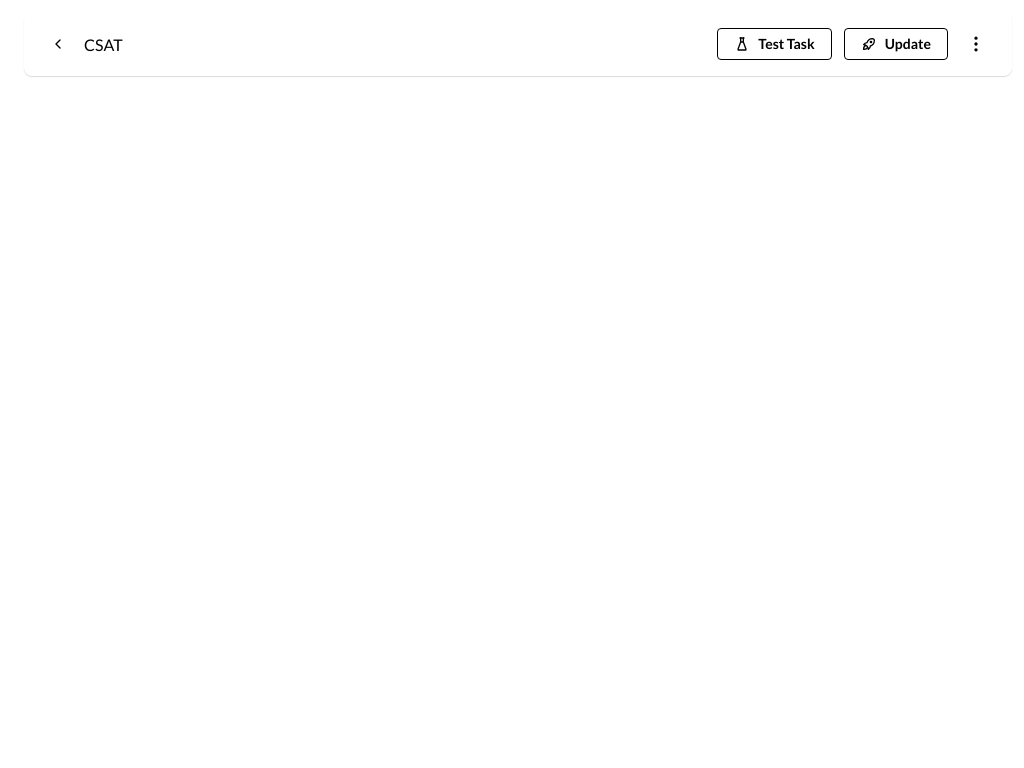
Scenario: Task edit page › renames the task from the overflow menu
Click the button named "More task actions" at coordinates (976, 44), box [960, 28, 992, 60]
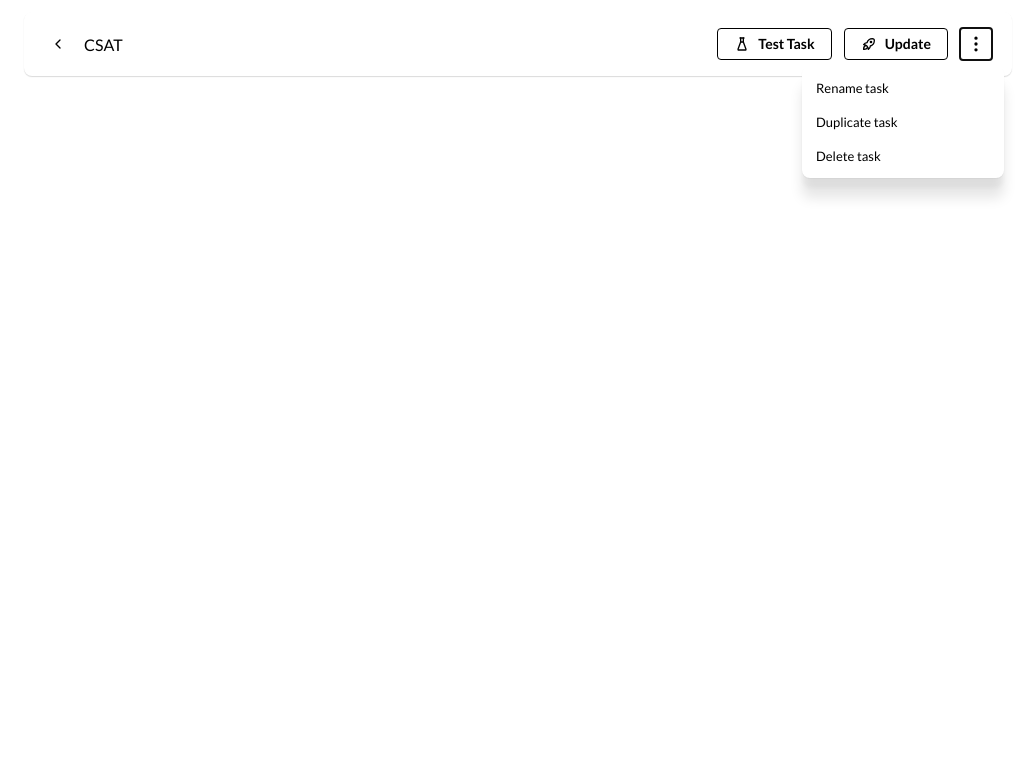
Click the menu item "Rename task" at coordinates (903, 88), box [808, 72, 998, 104]
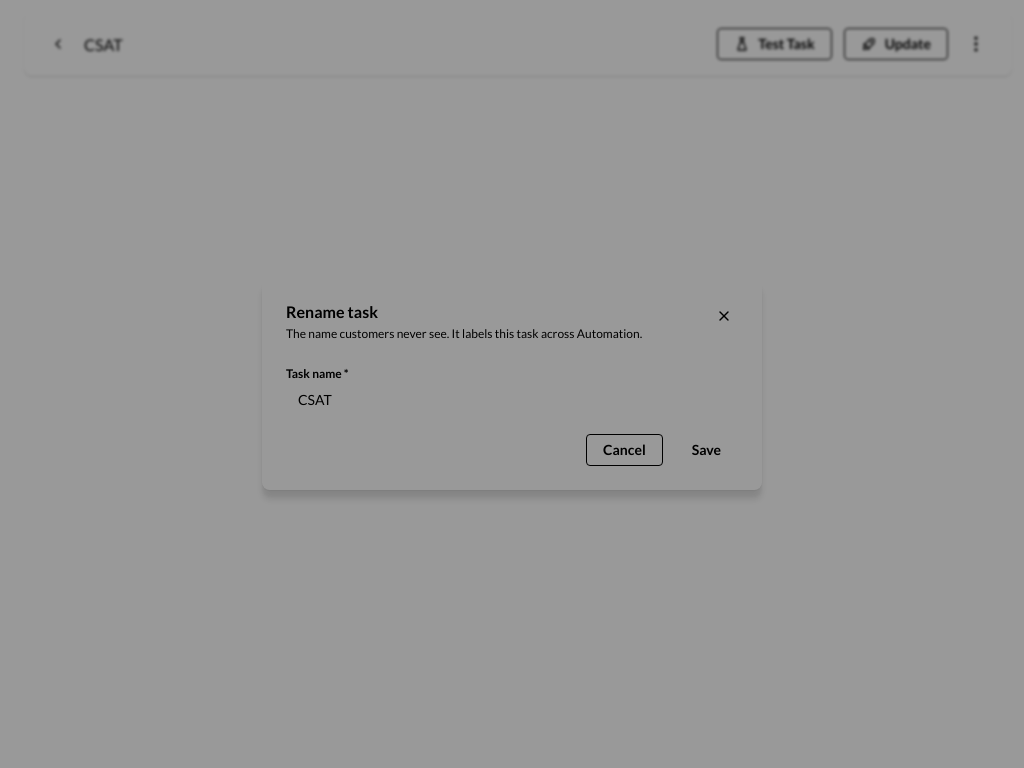
Replace the text in the field labelled "Task name*" with "Satisfaction survey" at coordinates (512, 400), box [286, 390, 738, 410]
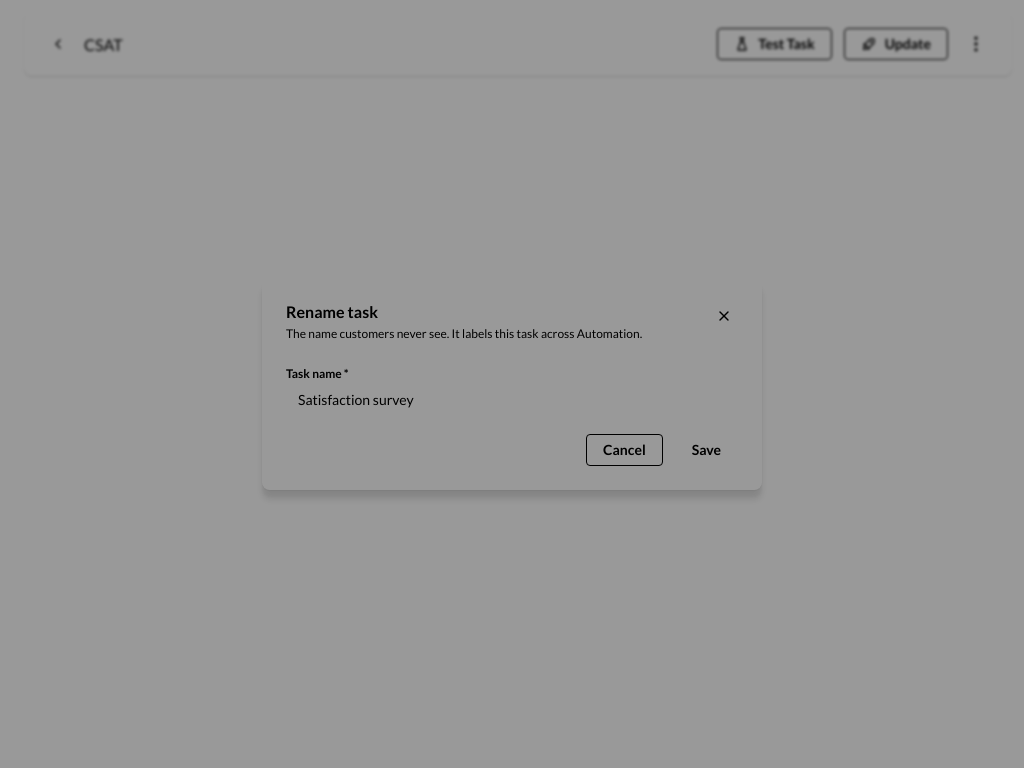
Click the button "Save" at coordinates (706, 450), box [675, 434, 738, 466]
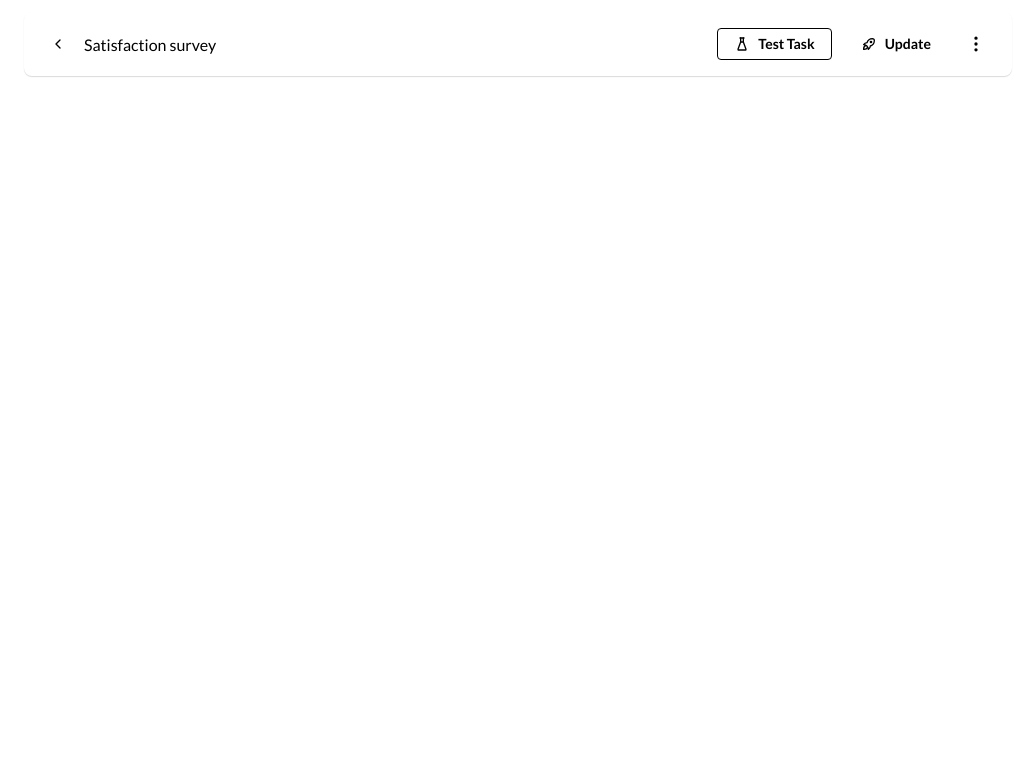
Expected: the heading "Satisfaction survey" is shown, [84, 34, 216, 54]
